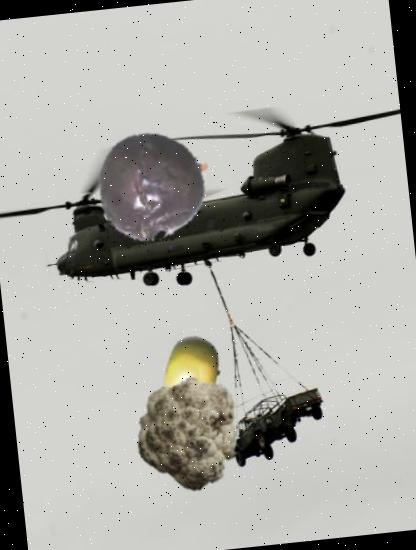Cauliflower: (124, 372, 251, 500)
Passion: (89, 122, 215, 248)
Pomelo: (156, 332, 230, 406)
